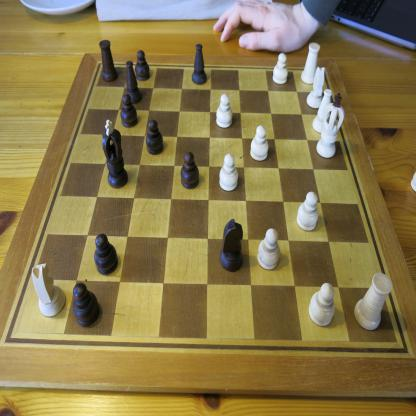black-bishop: (126, 60, 142, 104), (192, 44, 208, 85)
black-king: (102, 119, 128, 189)
black-knight: (219, 218, 244, 272)
black-pawn: (73, 282, 100, 328), (94, 233, 118, 275), (180, 151, 200, 190), (145, 119, 164, 156), (120, 93, 137, 128), (134, 50, 150, 82)
black-rook: (99, 39, 118, 83)
white-bishop: (312, 88, 332, 134)
white-king: (316, 92, 345, 159)
white-knight: (31, 263, 66, 318), (306, 66, 325, 109)
white-pawn: (308, 282, 335, 327), (257, 228, 280, 272), (296, 191, 319, 232), (218, 152, 238, 192), (250, 124, 268, 162), (215, 93, 233, 129), (272, 52, 288, 85)
white-rook: (353, 272, 393, 332), (300, 42, 321, 85)
